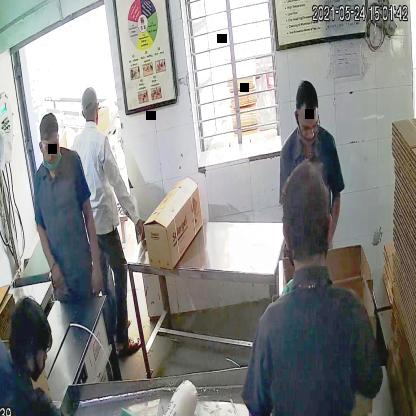goggles: (292, 111, 323, 136), (37, 136, 63, 154)
